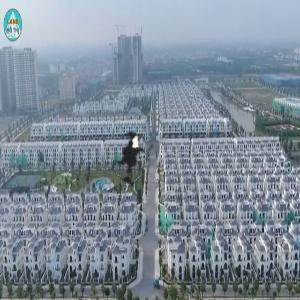drone: (93, 117, 181, 205)
